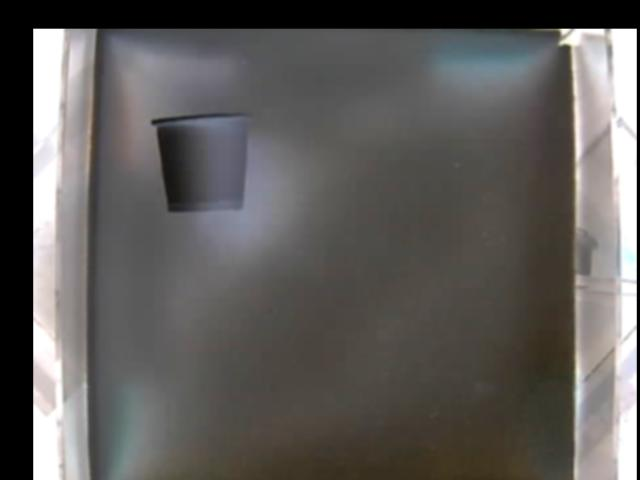Cup: (150, 110, 251, 213)
